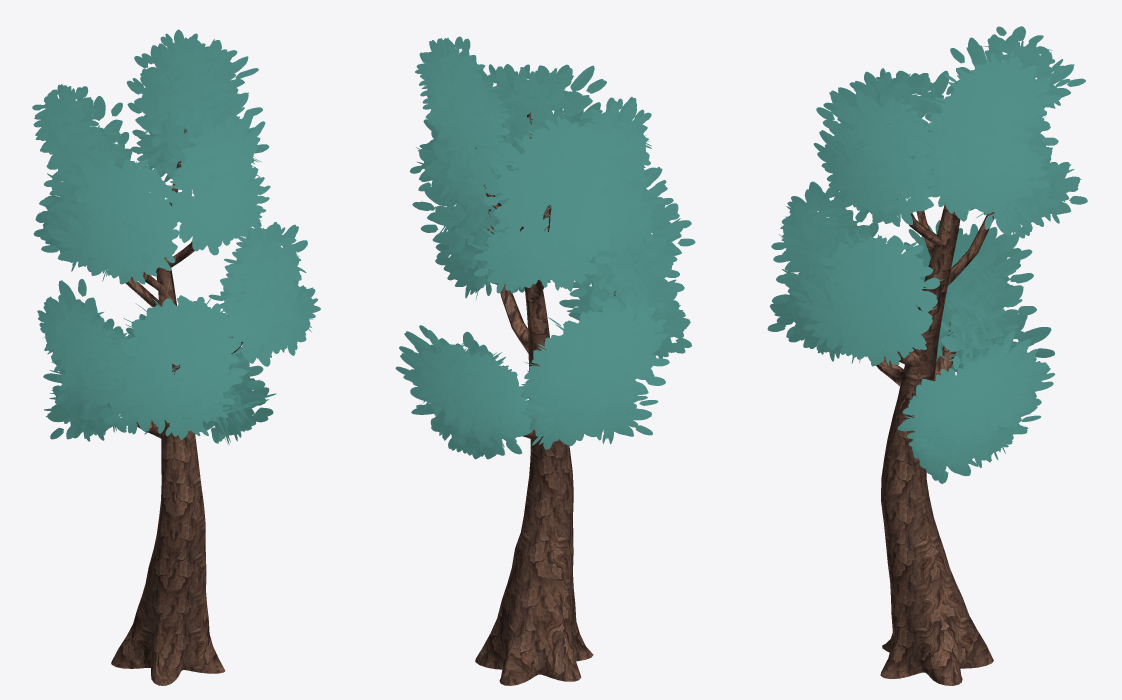
Rendered from gtree_common_3.glb.
3 views of the same model, side by side, from view 1: azimuth 30°, elevation 25°; view 2: azimuth 150°, elevation 25°; view 3: azimuth 270°, elevation 25° (orthographic). The views are drawn at different scales.
Visible parts, largest first — view 1: model; view 2: model; view 3: model.
Part boxes in pixels (box(x1,y1,x2,y2)): model: box(32, 29, 320, 685); model: box(395, 36, 695, 685); model: box(767, 26, 1087, 685).
Size of the model in its own units: 3.09 by 6.42 by 3.23.
Materials: 2 (2 with a texture image).
